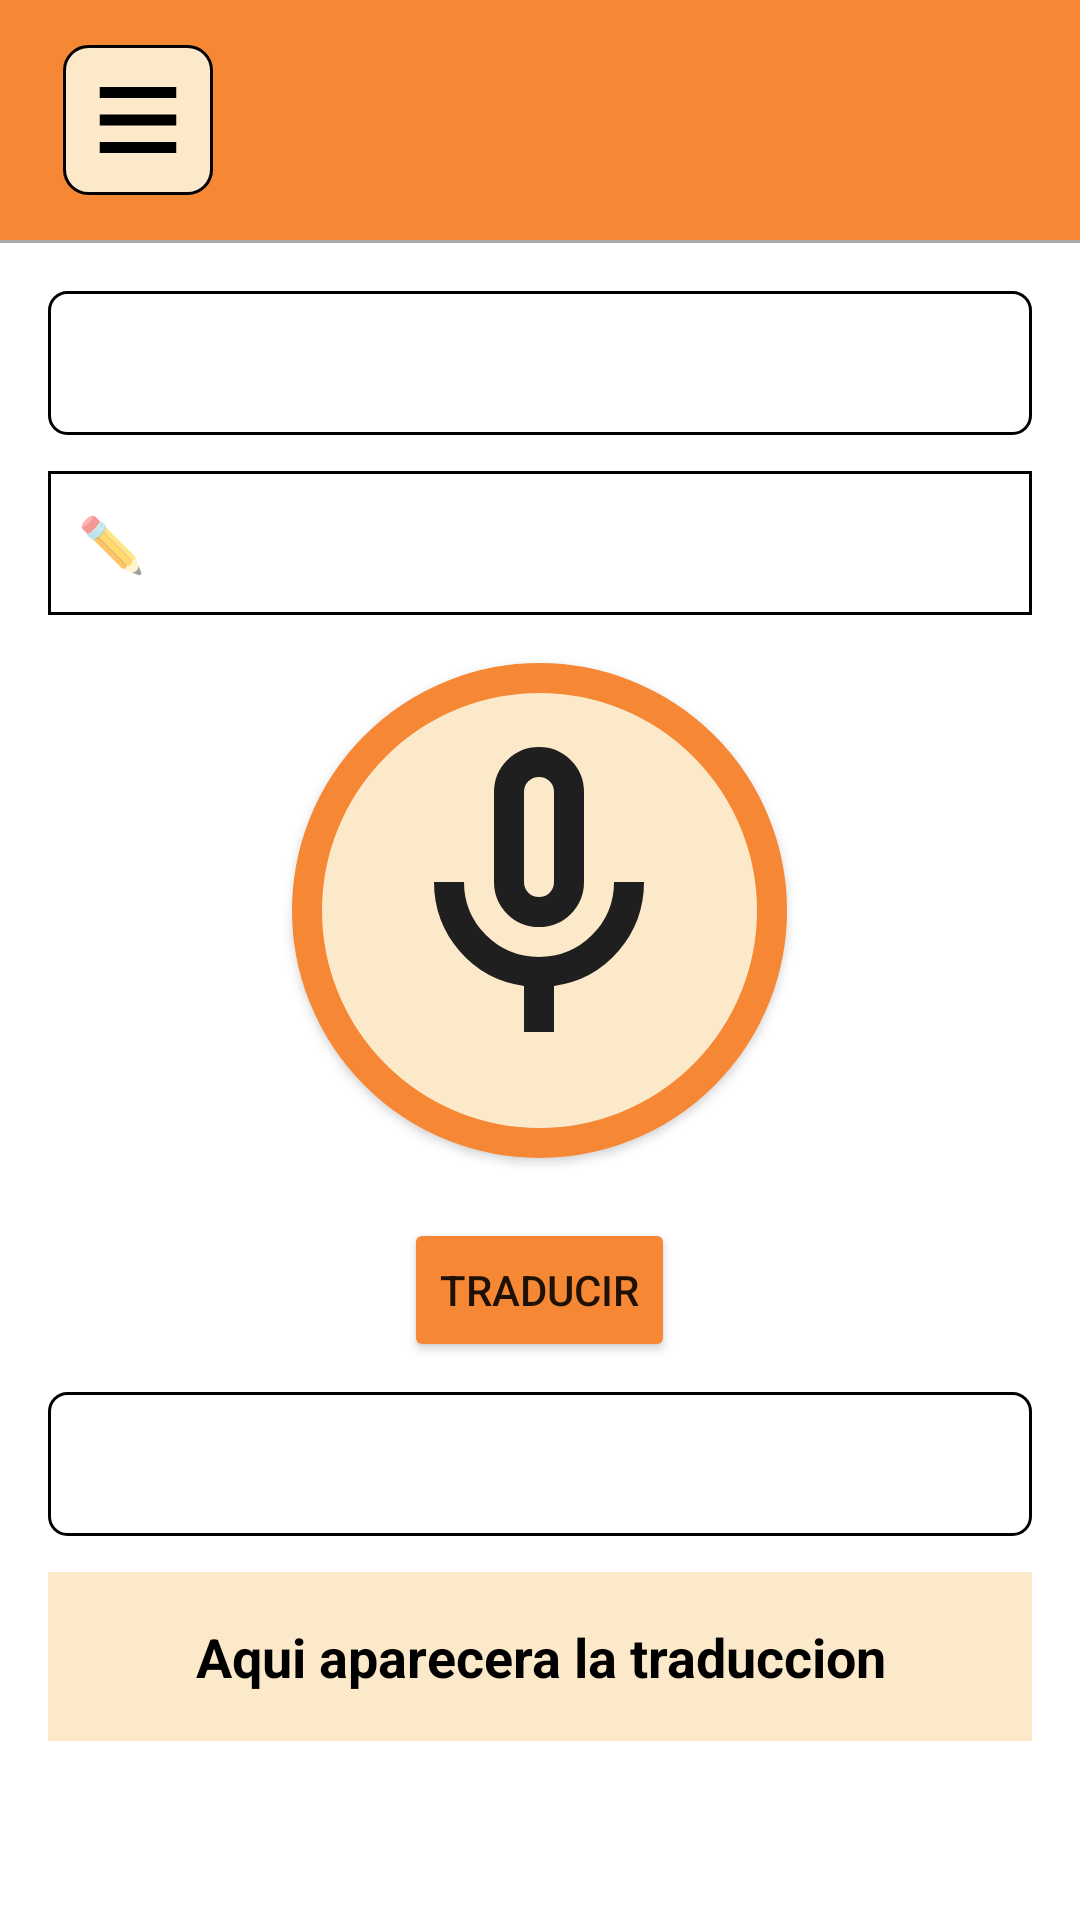

Named icons in this screenshot (1080px×1920px) and their centers, point (x, y):
Icono menú: point (138, 120)
